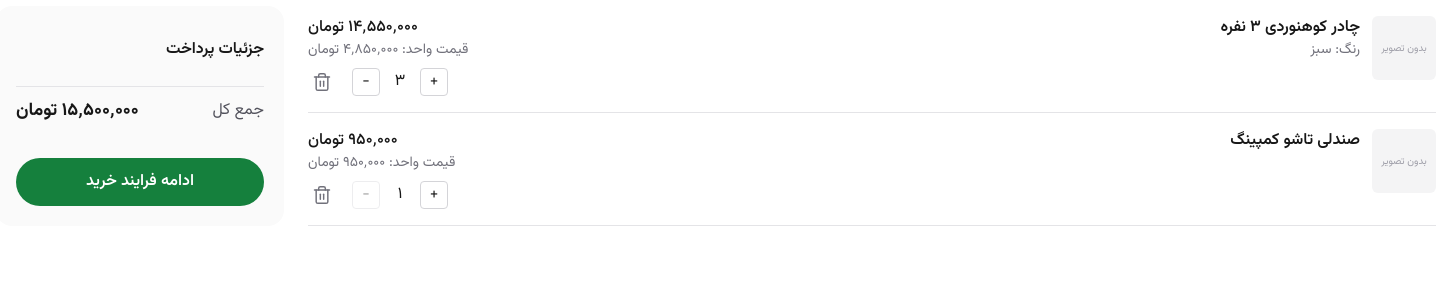
Test: CartPageContent › lets the shopper dismiss a row error without waiting for another attempt
Expected: the link "چادر کوهنوردی ۳ نفره" is shown, [1221,15,1360,40]
Click the button named "افزایش تعداد چادر کوهنوردی ۳ نفره" at {"x": 434, "y": 82}, box [420,68,448,96]
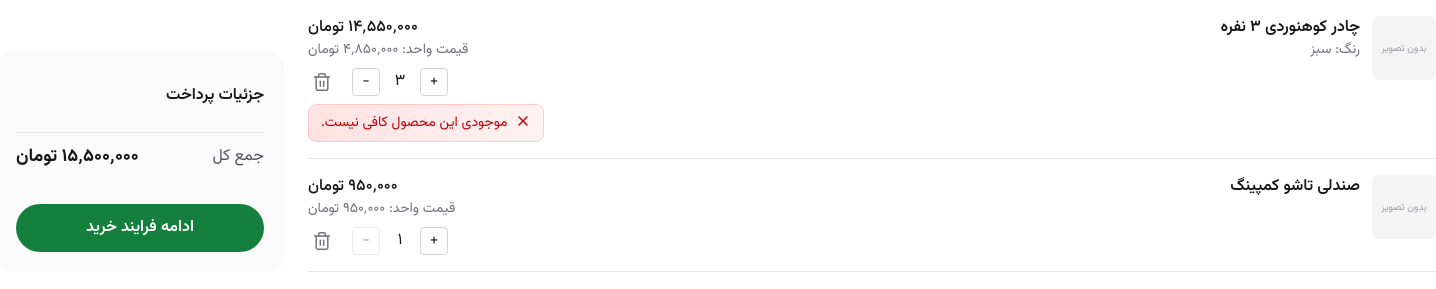
Result: the message "موجودی این محصول کافی نیست." is shown at [308,104,544,142]
Click the button named "بستن پیام خطا" at {"x": 523, "y": 121}, box [515,113,531,129]
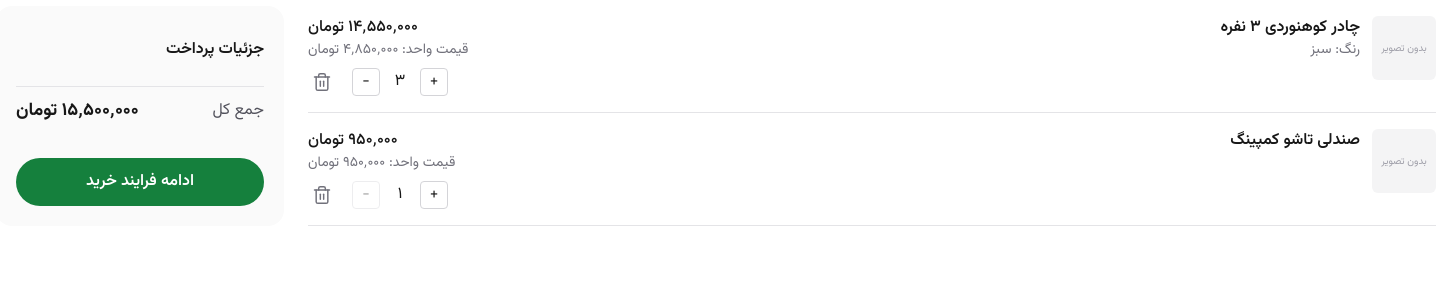
Expected: the text "۳" is shown, [395,69,405,94]
Result: the message "موجودی این محصول کافی نیست." is gone
